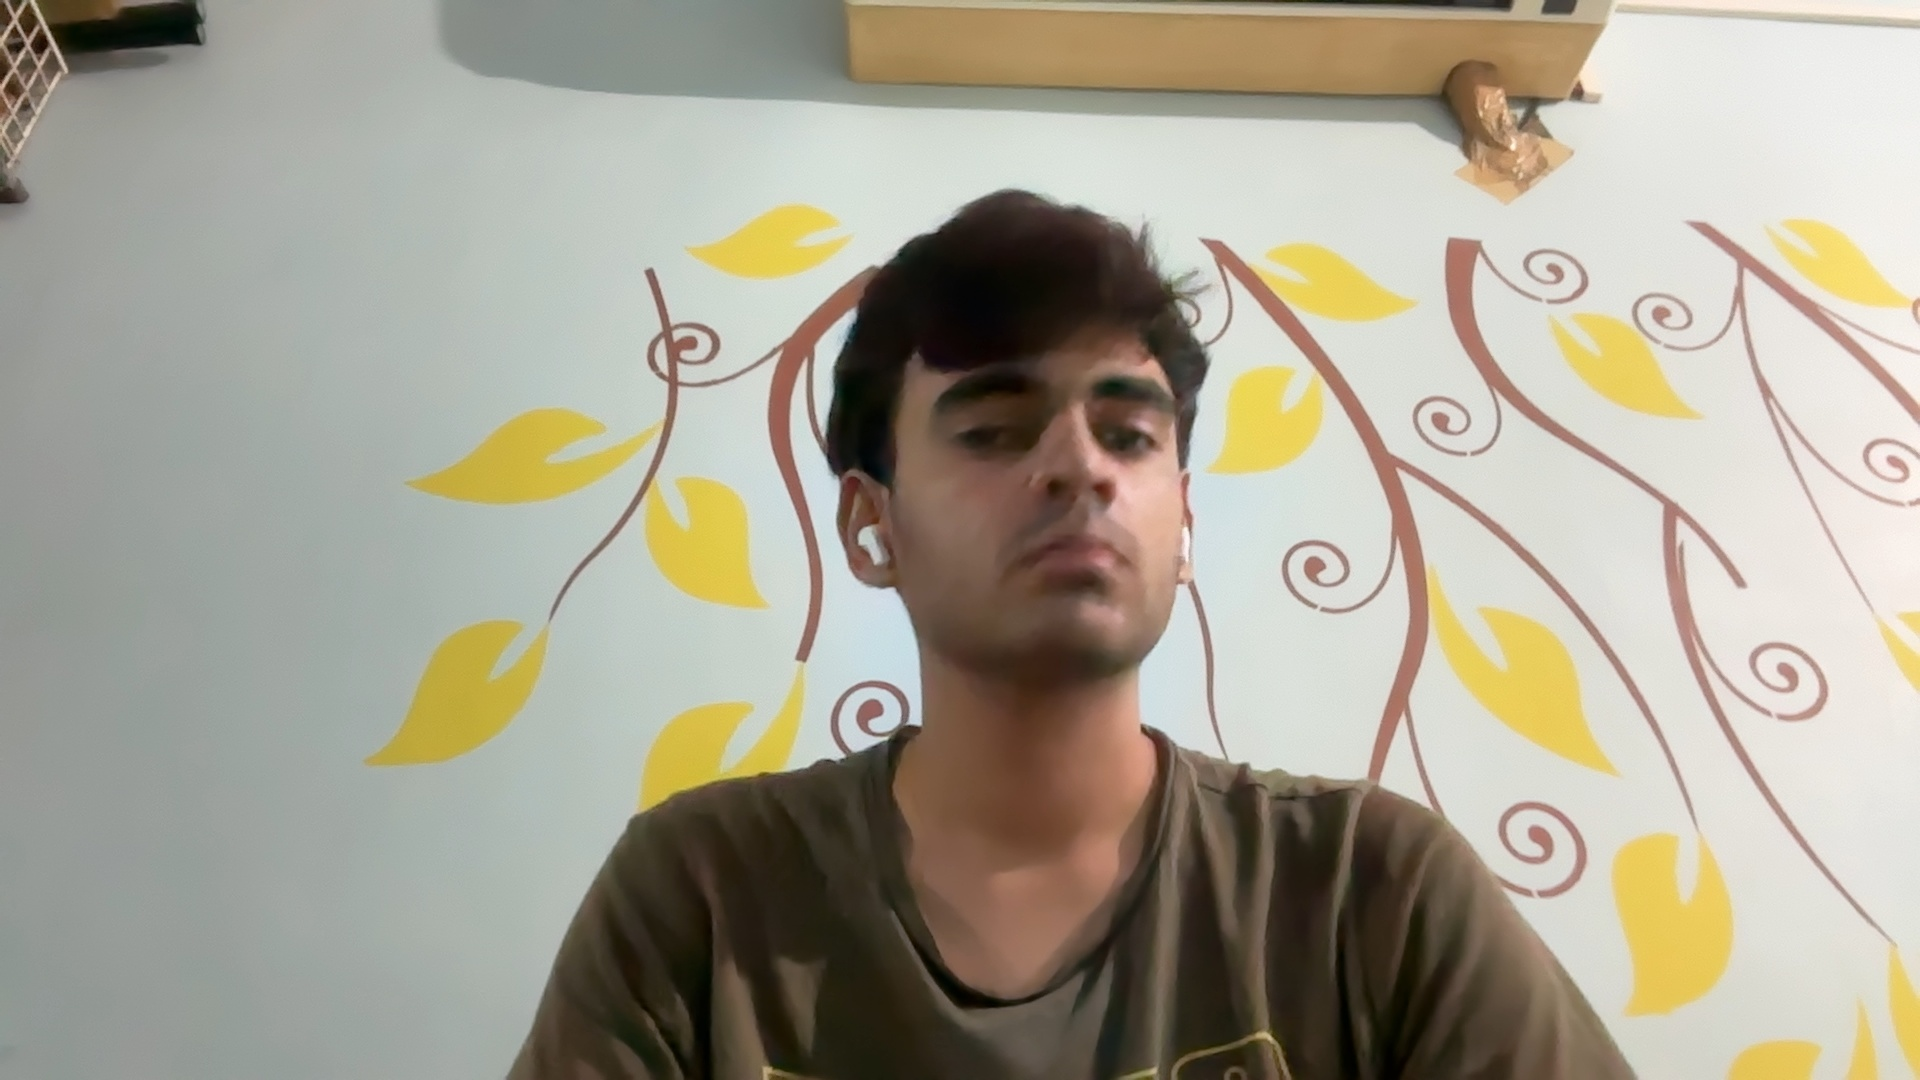No Mask: (918, 459, 1178, 695)
